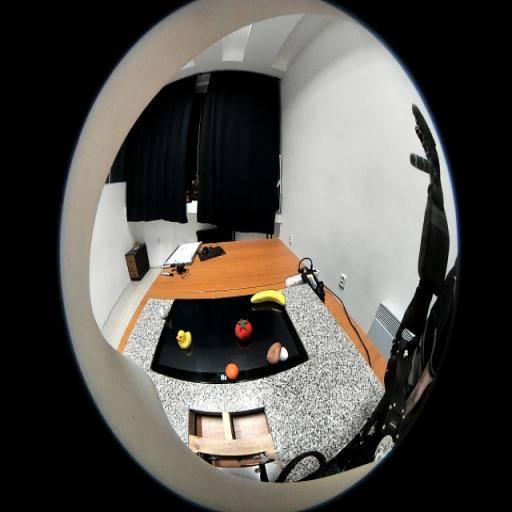Banana: (251, 290, 285, 306)
Duck: (176, 330, 192, 348)
Mushroom: (266, 342, 289, 364)
Onion: (161, 303, 169, 318)
Orange: (225, 362, 239, 380)
RightHand: (427, 149, 441, 183)
Tomato: (235, 318, 252, 340)
